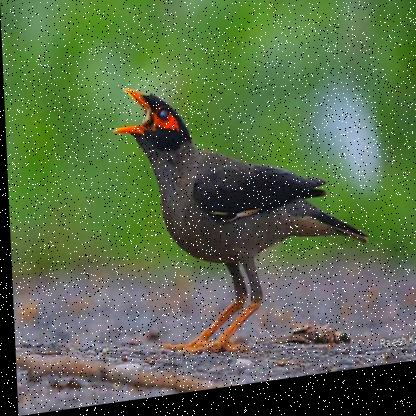Burung: (106, 64, 373, 376)
